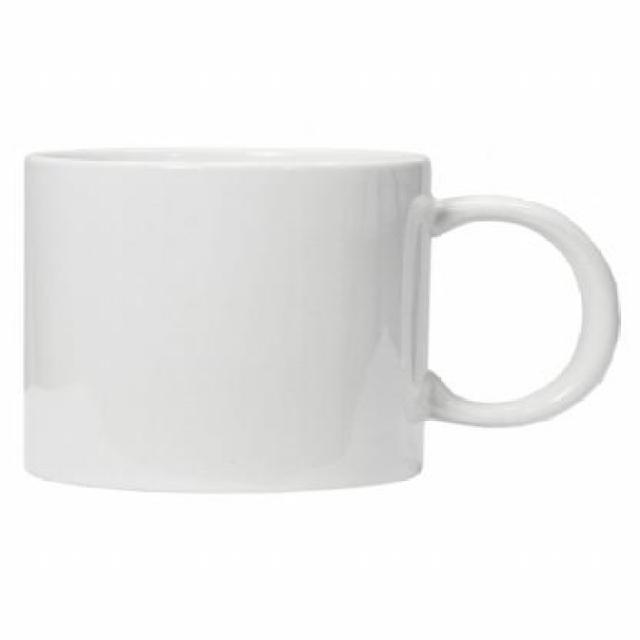taza: (22, 143, 622, 494)
